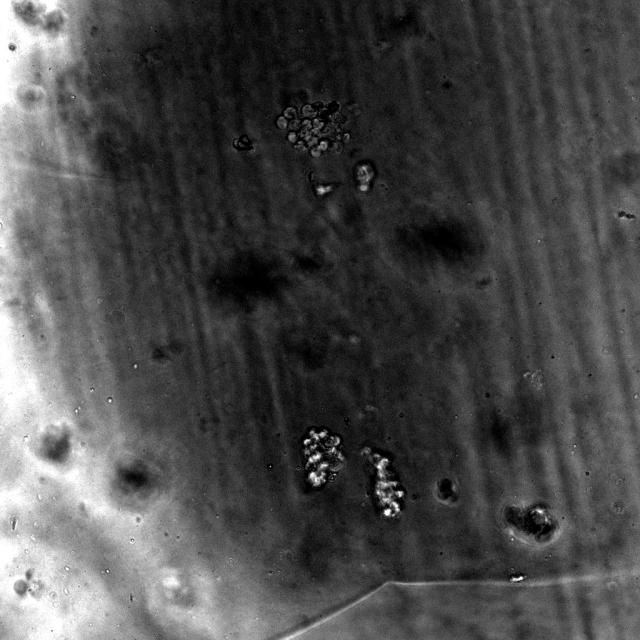organoid: (277, 101, 350, 157), (361, 447, 405, 519), (302, 426, 344, 488), (501, 502, 559, 546), (309, 171, 340, 197), (353, 160, 376, 192), (433, 477, 459, 505), (232, 133, 252, 151)
